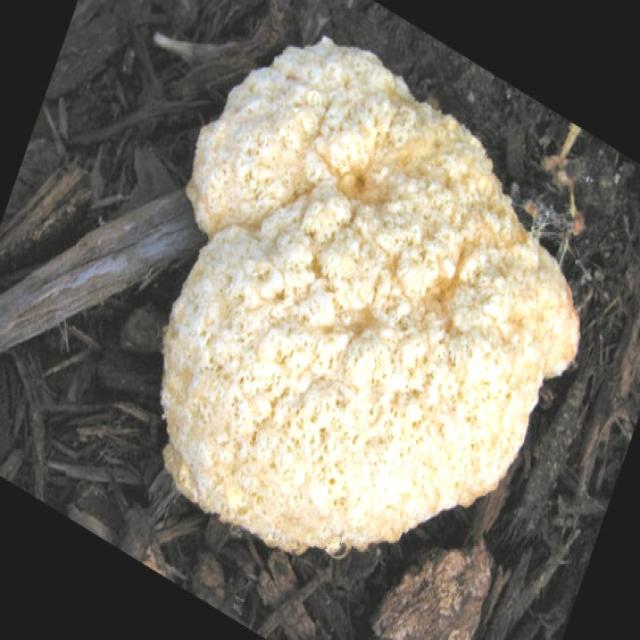Dog_vomit_slime_mold: (126, 43, 592, 562)
